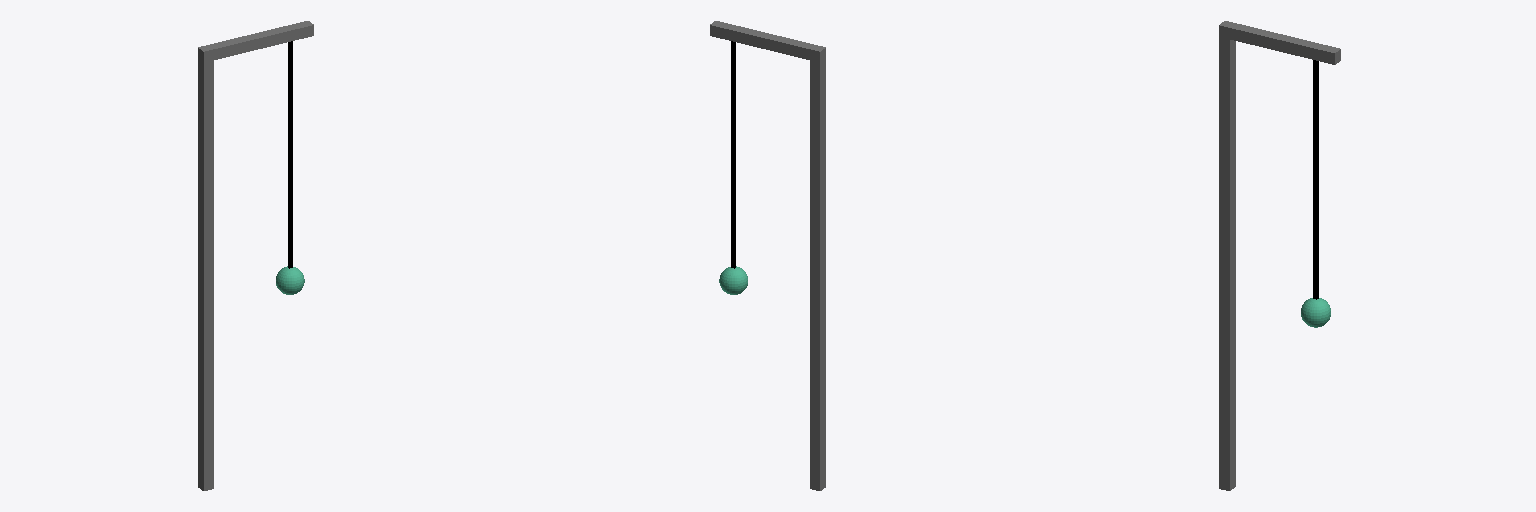
robot.urdf — camel_simple_pendulum:
<?xml version="1.0" ?>
<robot name="camel_simple_pendulum">

  <material name="black">
    <color rgba="0.0 0.0 0.0 1.0"/>
  </material>

  <material name="gray">
    <color rgba="0.5 0.5 0.5 1.0"/>
  </material>

  <material name="Aquamarine">
    <color rgba="0.364 0.733 0.608 1.0"/>
  </material>

  <material name="Aqua">
    <color rgba="0.0 0.733 0.733 1.0"/>
  </material>

  <link name="world"/>
  <joint name="fixed_world" type="fixed">
    <parent link="world"/>
    <child link="base"/>
  </joint>

  <link name="base">
    <visual>
      <origin rpy="0 0 0" xyz="0 0 0.5"/>
      <geometry>
        <box size="0.025 0.025 1.0"/>
      </geometry>
      <material name="gray"/>
    </visual>
    <visual>
      <origin rpy="0 0 0" xyz="0.125 0 0.9875"/>
      <geometry>
        <box size="0.25 0.025 0.025"/>
      </geometry>
      <material name="gray"/>
    </visual>

    <inertial>
      <mass value="10"/>
      <inertia ixx="1.0" ixy="0.0" ixz="0.0" iyy="1.0" iyz="0.0" izz="1.0"/>
    </inertial>
  </link>

  <joint name="top_roll" type="revolute">
    <origin rpy="0 0 0" xyz="0.2 0 1.0"/>
    <parent link="base"/>
    <child link="wire"/>
    <axis xyz="1 0 0"/>
  </joint>

  <link name="wire">
    <visual>
      <origin rpy="0 0 0" xyz="0 0 -0.3"/>
      <geometry>
        <box size="0.0075 0.0075 0.55"/>
      </geometry>
      <material name="black"/>
    </visual>
  </link>

  <joint name="fixed_ball" type="fixed">
    <origin rpy="0 0 0" xyz="0 0 -0.575"/>
    <parent link="wire"/>
    <child link="ball"/>
  </joint>

  <link name="ball">
    <visual>
    <origin rpy="0 0 0" xyz="0 0 0"/>
      <geometry>
        <sphere radius="0.03"/>
      </geometry>
      <material name="Aquamarine"/>
    </visual>

    <collision>
      <origin rpy="0 0 0" xyz="0 0 0"/>
      <geometry>
        <sphere radius="0.03"/>
      </geometry>
    </collision>

    <inertial>
      <mass value="5.0"/>
      <inertia ixx="1.0" ixy="0.0" ixz="0.0" iyy="1.0" iyz="0.0" izz="1.0"/>
    </inertial>
  </link>

  
</robot>

--- Render facts (derived) ---
3 views of the same robot in one strip: view 1: azimuth 30°, elevation 25°; view 2: azimuth 150°, elevation 25°; view 3: azimuth 330°, elevation 25° (orthographic).
Robot: camel_simple_pendulum — 4 links, 3 joints (1 revolute, 2 fixed); root link world; default pose: every joint at zero.
Visible links, largest first — view 1: base, wire, ball; view 2: base, wire, ball; view 3: base, wire, ball.
Boxes of the visible links, x1,y1,x2,y2 form: base: (198, 21, 313, 490); wire: (288, 41, 292, 268); ball: (276, 266, 304, 294); base: (710, 21, 825, 490); wire: (731, 41, 735, 268); ball: (719, 266, 747, 294); base: (1219, 21, 1340, 490); wire: (1313, 60, 1318, 299); ball: (1301, 298, 1330, 327).
Bounding box of the posed robot: 0.2625 × 0.06 × 1 m (x, y, z).
Geometry: primitives only (box / cylinder / sphere), no mesh files.